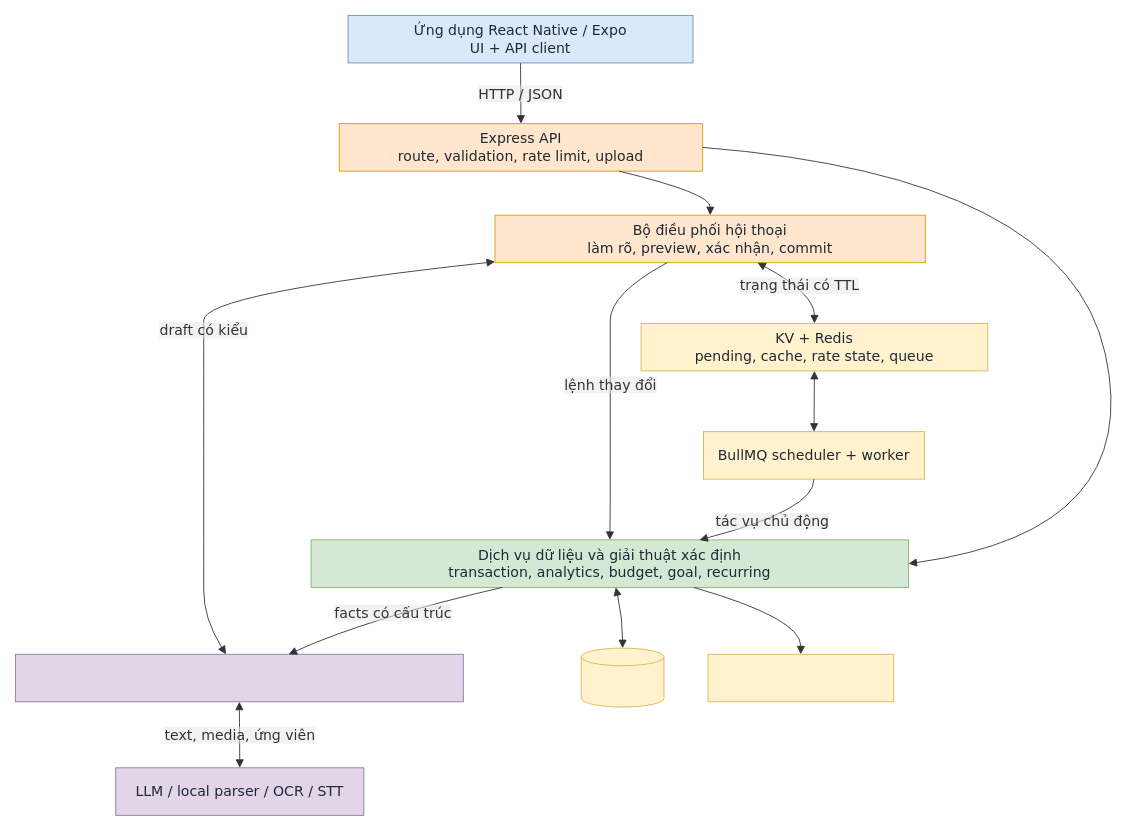
The diagram is 1127 pixels wide and 831 high, and some of its shapes have lost their labels. The shapes that lost their labels are listed below. From the top down, each one's centre as x and y in pixels, then its label:
At point 239,677: "Bộ điều phối AI function calling có kiểu + grounded narration".
At point 622,677: "PostgreSQL".
At point 800,677: "Export / backup files".
